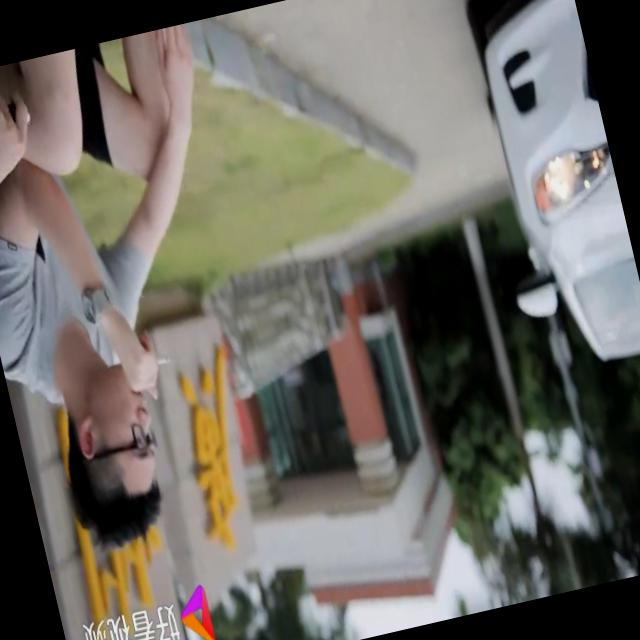smoke: (146, 348, 177, 377)
